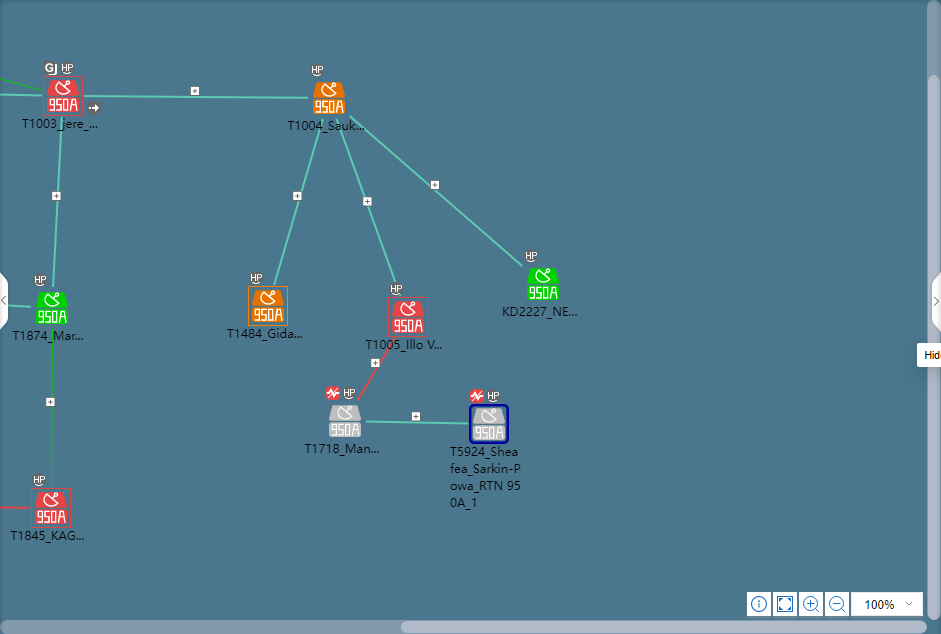Link_Blue: (348, 114, 523, 269), (334, 117, 398, 283), (272, 119, 325, 286), (51, 116, 64, 288), (84, 95, 309, 100), (364, 420, 468, 425), (0, 93, 42, 97), (8, 304, 32, 309)
Link_Green: (49, 330, 55, 488)
Link_Red: (355, 337, 398, 402), (0, 505, 30, 511)
RTN_Gray: (472, 408, 505, 441), (329, 406, 360, 438)
RTN_Green: (36, 292, 67, 324), (527, 269, 558, 300)
RTN_Orange: (248, 289, 284, 324), (313, 82, 344, 114)
RTN_Red: (388, 299, 427, 336), (45, 78, 82, 113), (33, 491, 69, 526)
